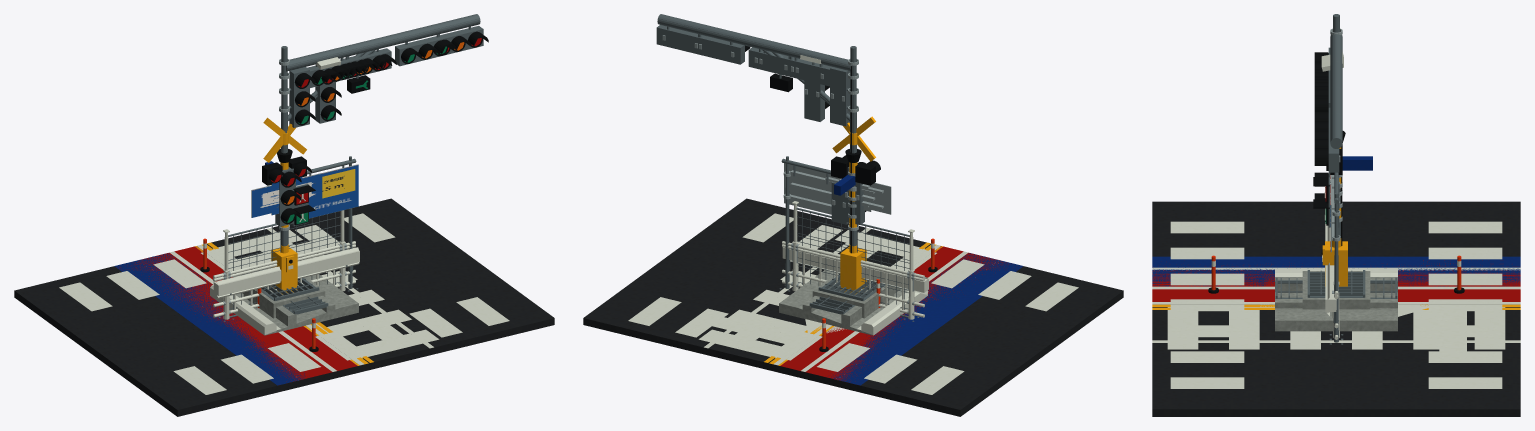
File: infra_00.glb
The picture shows the model from 3 angles, left to right: view 1: azimuth 30°, elevation 25°; view 2: azimuth 150°, elevation 25°; view 3: azimuth 270°, elevation 25°; orthographic projection. The views are drawn at different scales.
Visible parts, largest first — view 1: infra_035_LOD0_asphalt, infra_035_LOD0_white, infra_026_LOD0_asphalt, infra_031_LOD0_blue, infra_030_LOD0_red, infra_008_LOD0_steel, infra_032_LOD0_white, infra_047_LOD2_white, infra_037_LOD0_concrete, infra_009_LOD2_yellow, infra_050_LOD0_steel, infra_025_LOD0_sign_atlas (+16 smaller); view 2: infra_035_LOD0_asphalt, infra_035_LOD0_white, infra_026_LOD0_asphalt, infra_031_LOD0_blue, infra_030_LOD0_red, infra_008_LOD0_steel, infra_032_LOD0_white, infra_050_LOD0_steel, infra_037_LOD0_concrete, infra_006_LOD0_steel, infra_025_LOD0_silver, infra_009_LOD2_yellow (+21 smaller); view 3: infra_035_LOD0_asphalt, infra_035_LOD0_white, infra_026_LOD0_asphalt, infra_031_LOD0_blue, infra_032_LOD0_white, infra_030_LOD0_red, infra_037_LOD0_concrete, infra_029_LOD0_white, infra_008_LOD0_steel, infra_042_LOD0_concrete, infra_031_LOD0_white, infra_045_LOD2_concrete (+13 smaller).
Boxes of the visible parts, x1,y1,x2,y2 form: infra_035_LOD0_asphalt: (14,198,554,416); infra_035_LOD0_white: (59,213,509,394); infra_026_LOD0_asphalt: (109,224,460,393); infra_031_LOD0_blue: (114,253,305,385); infra_030_LOD0_red: (116,246,357,382); infra_008_LOD0_steel: (281,14,481,246); infra_032_LOD0_white: (213,230,439,358); infra_047_LOD2_white: (213,247,359,296); infra_037_LOD0_concrete: (236,274,358,335); infra_009_LOD2_yellow: (263,117,306,294); infra_050_LOD0_steel: (228,212,340,317); infra_025_LOD0_sign_atlas: (308,165,358,218); infra_035_LOD0_asphalt: (583,198,1123,416); infra_035_LOD0_white: (628,213,1078,394); infra_026_LOD0_asphalt: (677,223,1028,393); infra_031_LOD0_blue: (830,253,1023,385); infra_030_LOD0_red: (780,246,1008,382); infra_008_LOD0_steel: (657,14,856,246); infra_032_LOD0_white: (698,230,924,358); infra_050_LOD0_steel: (796,207,909,317); infra_037_LOD0_concrete: (779,270,907,335); infra_006_LOD0_steel: (690,33,856,127); infra_025_LOD0_silver: (783,163,840,214); infra_009_LOD2_yellow: (832,116,875,294); infra_035_LOD0_asphalt: (1152,201,1520,416); infra_035_LOD0_white: (1170,221,1502,388); infra_026_LOD0_asphalt: (1152,253,1520,357); infra_031_LOD0_blue: (1152,256,1520,286); infra_032_LOD0_white: (1167,307,1505,349); infra_030_LOD0_red: (1152,260,1520,301); infra_037_LOD0_concrete: (1275,292,1397,328); infra_029_LOD0_white: (1152,267,1520,342); infra_008_LOD0_steel: (1330,14,1342,235); infra_042_LOD0_concrete: (1275,277,1397,308); infra_031_LOD0_white: (1152,260,1520,289); infra_045_LOD2_concrete: (1302,271,1370,309).
Size of the model in its own units: 8.15 by 5.35 by 6.
Materials: 14 (13 with a texture image).
